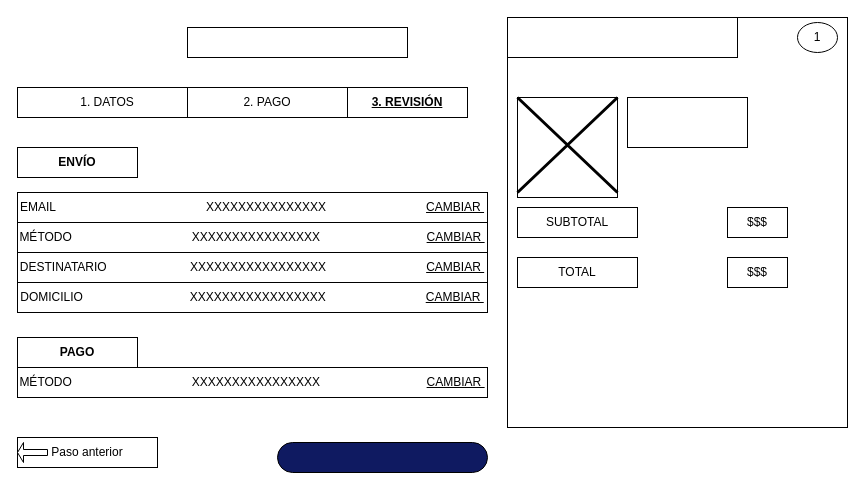
Some shapes in this 865 by 490 pixel diagram are drawn without their labels. Each missing label, with the centre of its shape:
"DESCRIPCIÓN DEL PRODUCTO" belongs at (687,122).
"MI COMPRA" belongs at (622,37).
"NOMBRE DE TIENDA" belongs at (297,42).
"Proceder compra" belongs at (382,457).
